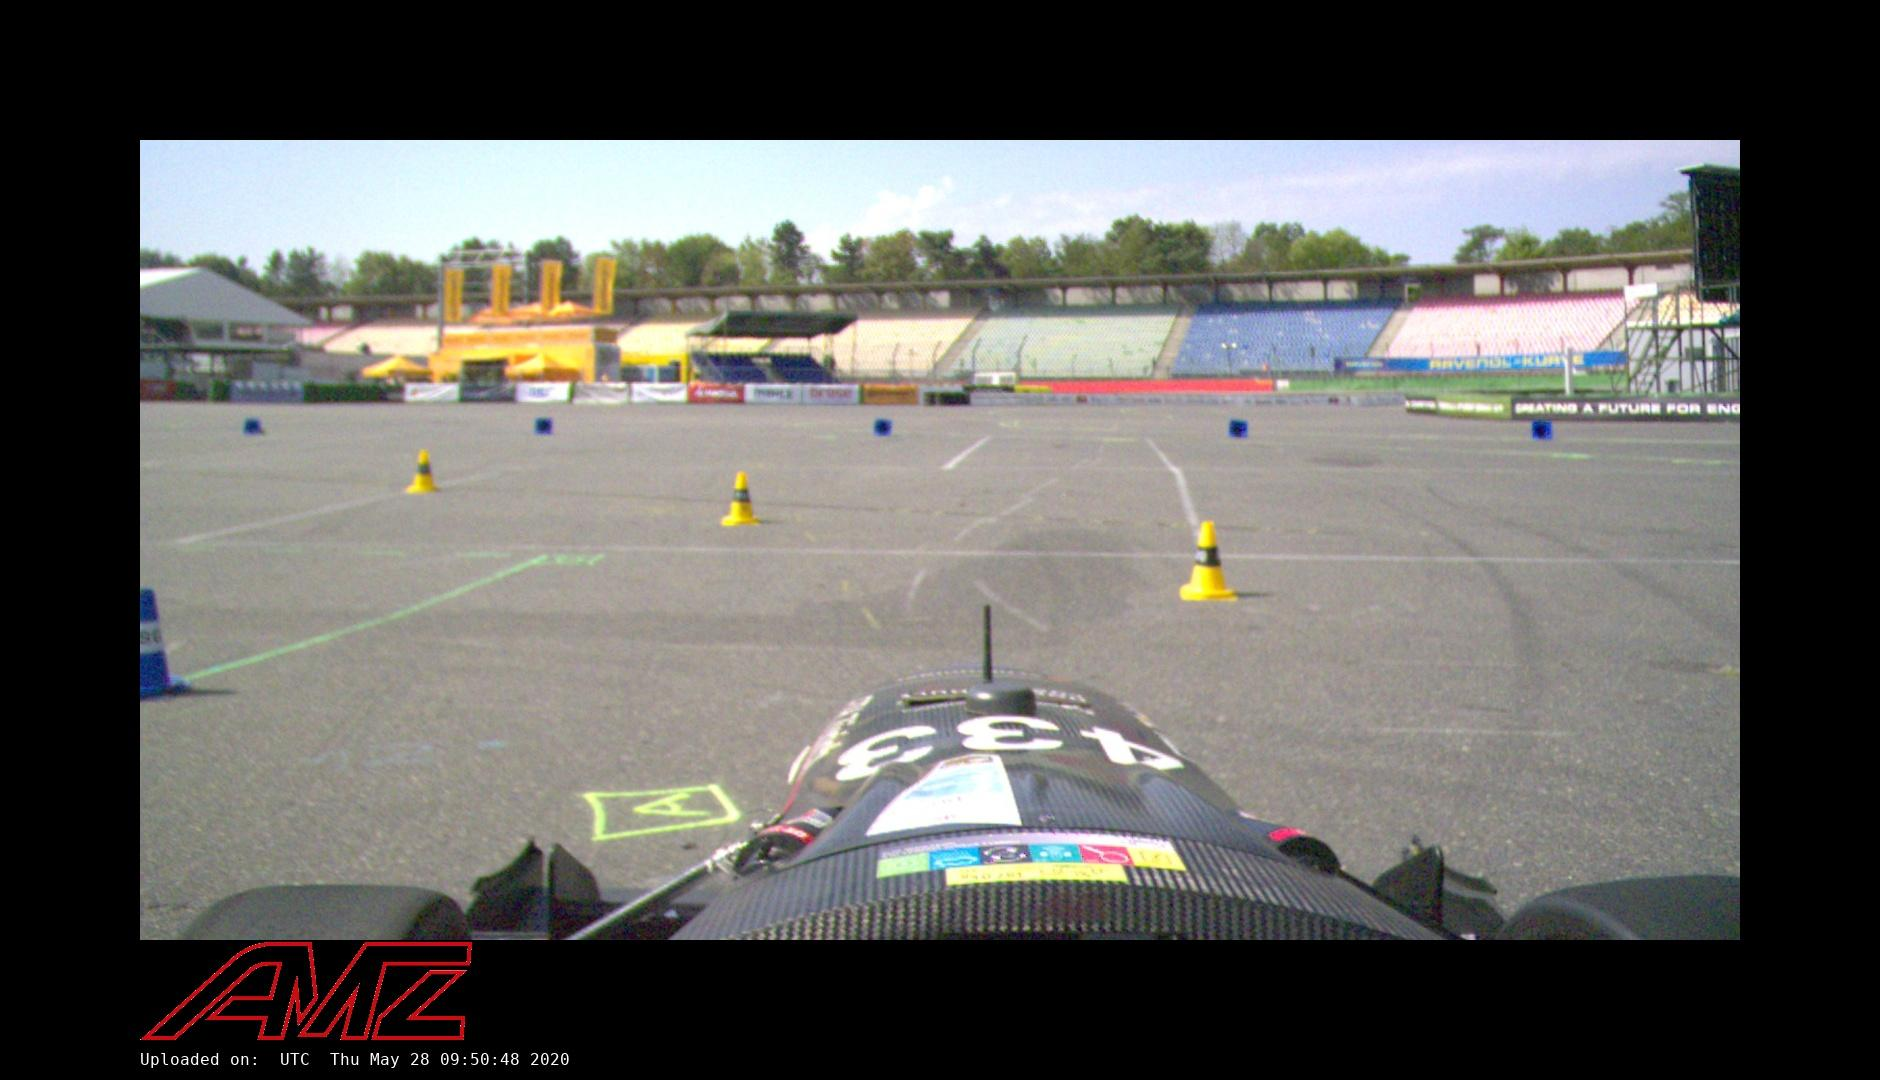blue_cone: (139, 587, 190, 701), (240, 419, 269, 438)
yellow_cone: (1174, 515, 1245, 603), (718, 472, 762, 527), (403, 450, 442, 497)
